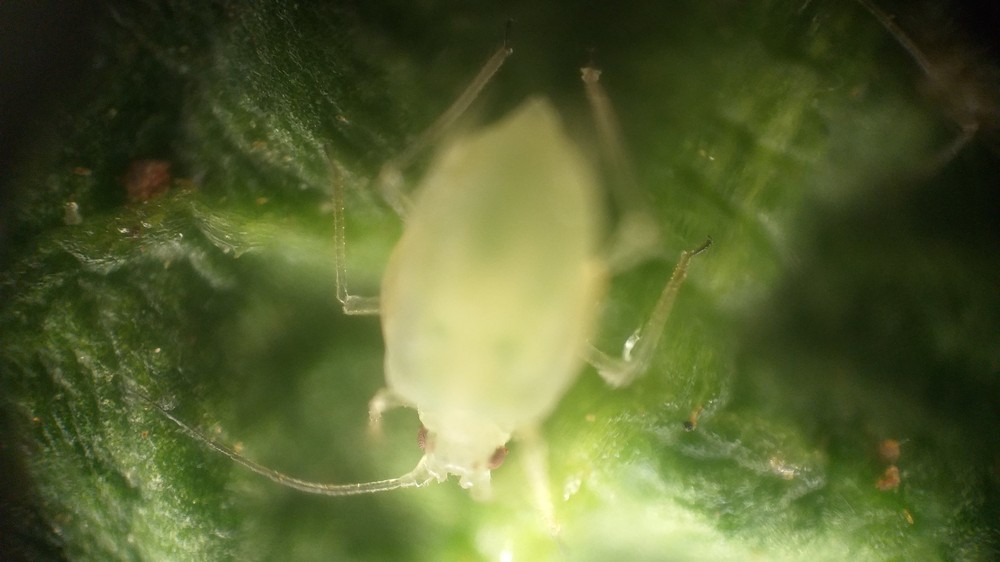Pulgon: (221, 33, 750, 555)
